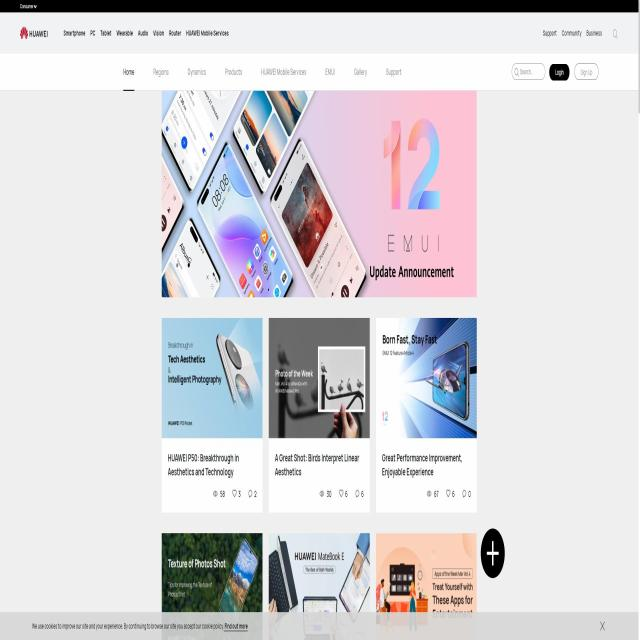button: (574, 63, 599, 81), (549, 63, 570, 81)
input: (512, 64, 546, 80)
select: (19, 2, 37, 10)
